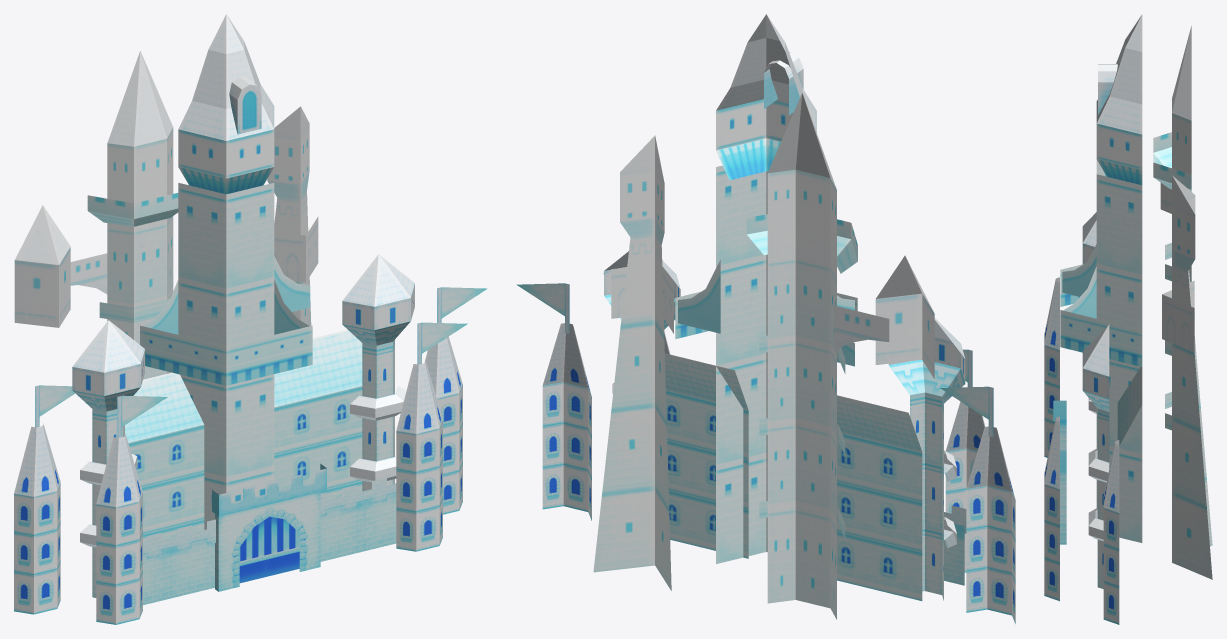
File: Catsle_Lv10.fbx
3 renders of one model, left to right at view 1: azimuth 30°, elevation 25°; view 2: azimuth 150°, elevation 25°; view 3: azimuth 270°, elevation 25°, orthographic. The views are drawn at different scales.
Parts seen in each view (by area): view 1: Cat_Lv010; view 2: Cat_Lv010; view 3: Cat_Lv010.
Part boxes in pixels (box(x1,y1,x2,y2)): Cat_Lv010: box(14, 14, 487, 624); Cat_Lv010: box(516, 14, 1015, 623); Cat_Lv010: box(1044, 14, 1212, 624).
Bounding box in the file's own units: 1580 × 1700 × 511.
